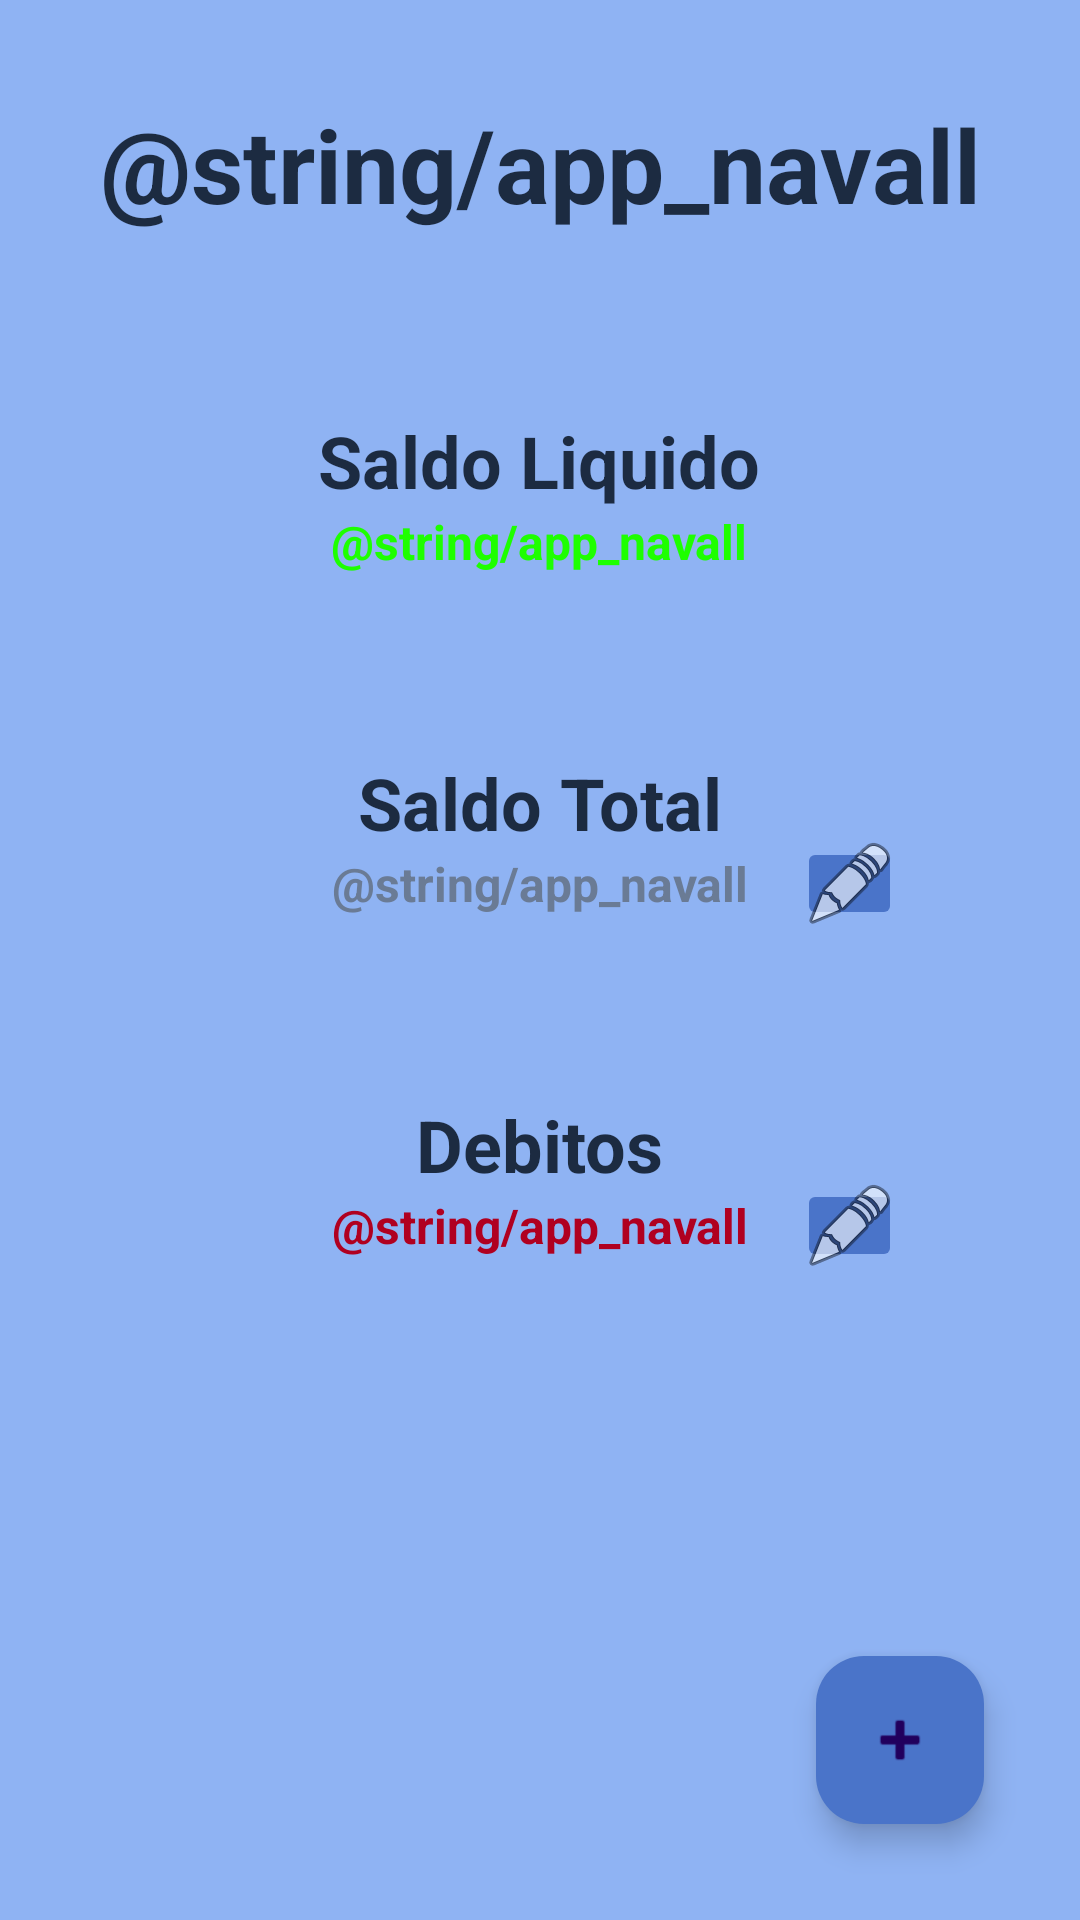

Screen size 1080×1920. Icon name, then its center in pixels as (x=x, y=y):
add: (x=900, y=1740)
edit: (x=849, y=883), (x=849, y=1225)
